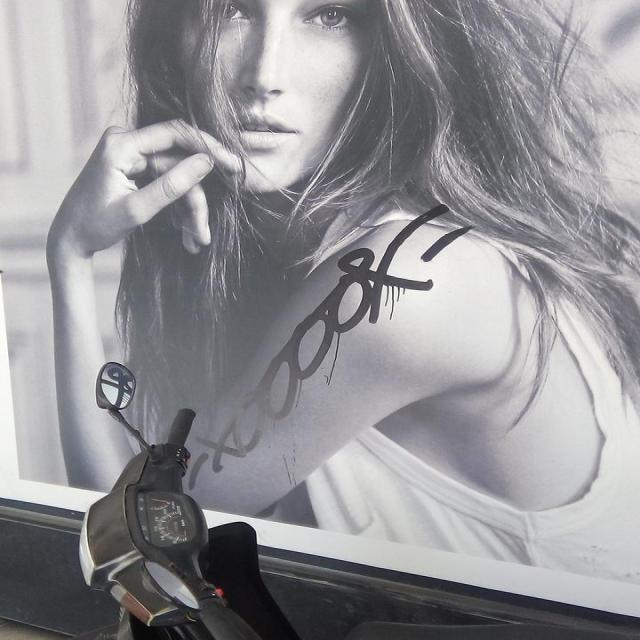nonspitting: (188, 203, 472, 493)
